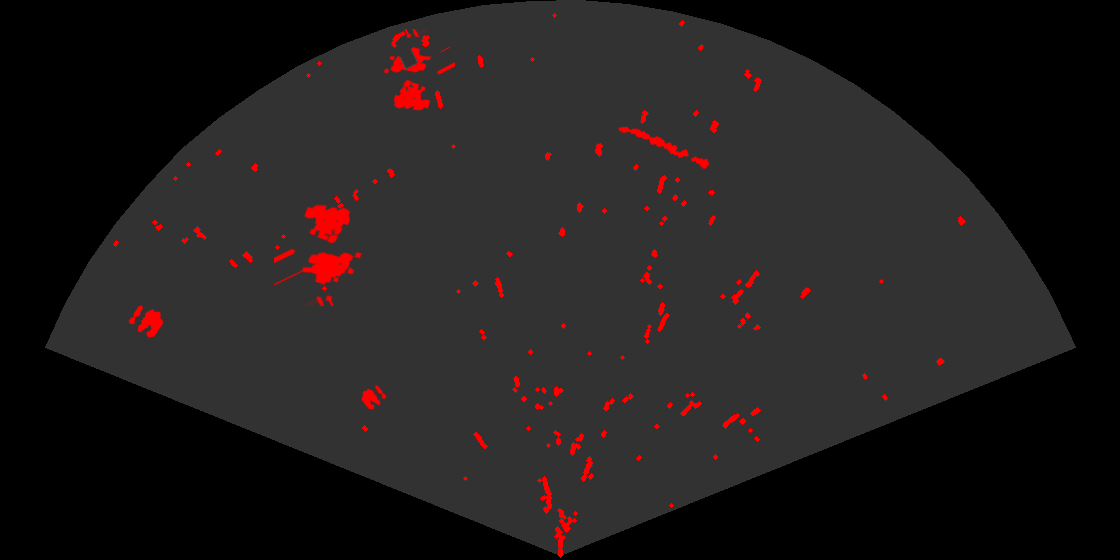ball: (127, 304, 165, 339), (360, 384, 388, 411)
cage: (274, 203, 364, 306), (382, 29, 455, 112)
chain: (617, 125, 711, 171)
